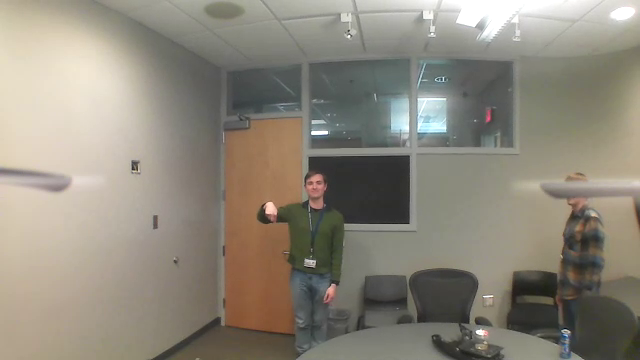down: (259, 202, 279, 228)
